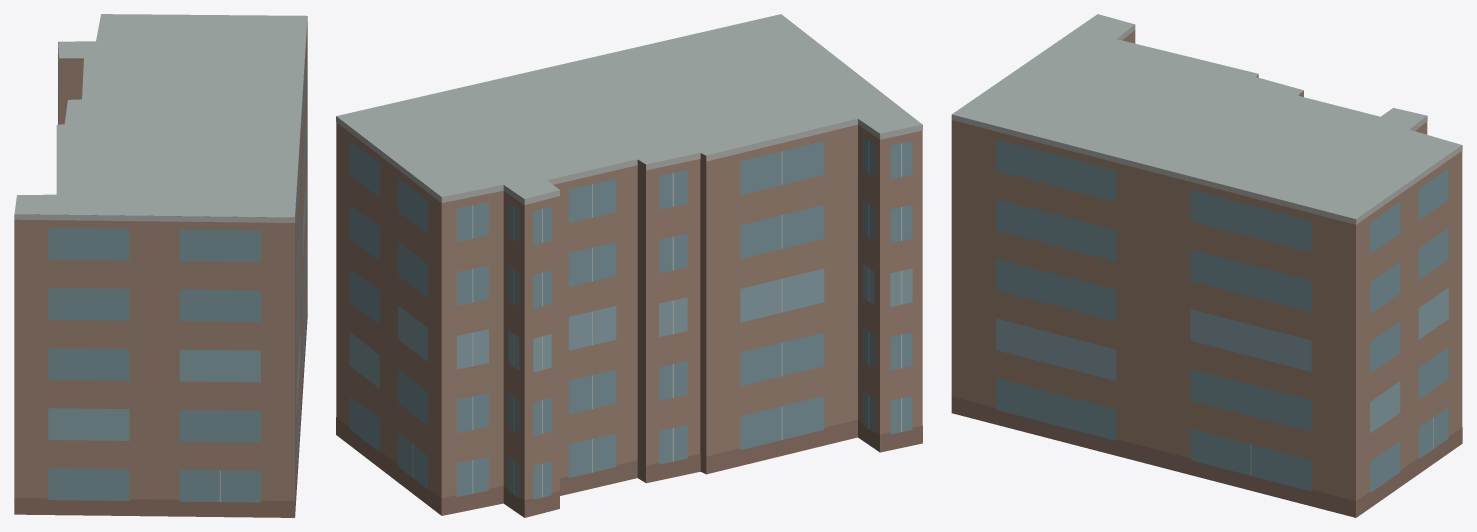
The model's file is survey-upis-32675860.glb.
3 views of the same model, side by side, from view 1: azimuth 30°, elevation 25°; view 2: azimuth 150°, elevation 25°; view 3: azimuth 270°, elevation 25° (orthographic). The views are drawn at different scales.
Visible parts, largest first — view 1: survey-upis-32675860.tmp; view 2: survey-upis-32675860.tmp; view 3: survey-upis-32675860.tmp.
Boxes of the visible parts, x1,y1,x2,y2 form: survey-upis-32675860.tmp: [14, 14, 307, 517]; survey-upis-32675860.tmp: [336, 14, 922, 517]; survey-upis-32675860.tmp: [951, 14, 1462, 517].
Size of the model in its own units: 19.31 by 13.1 by 20.31.
